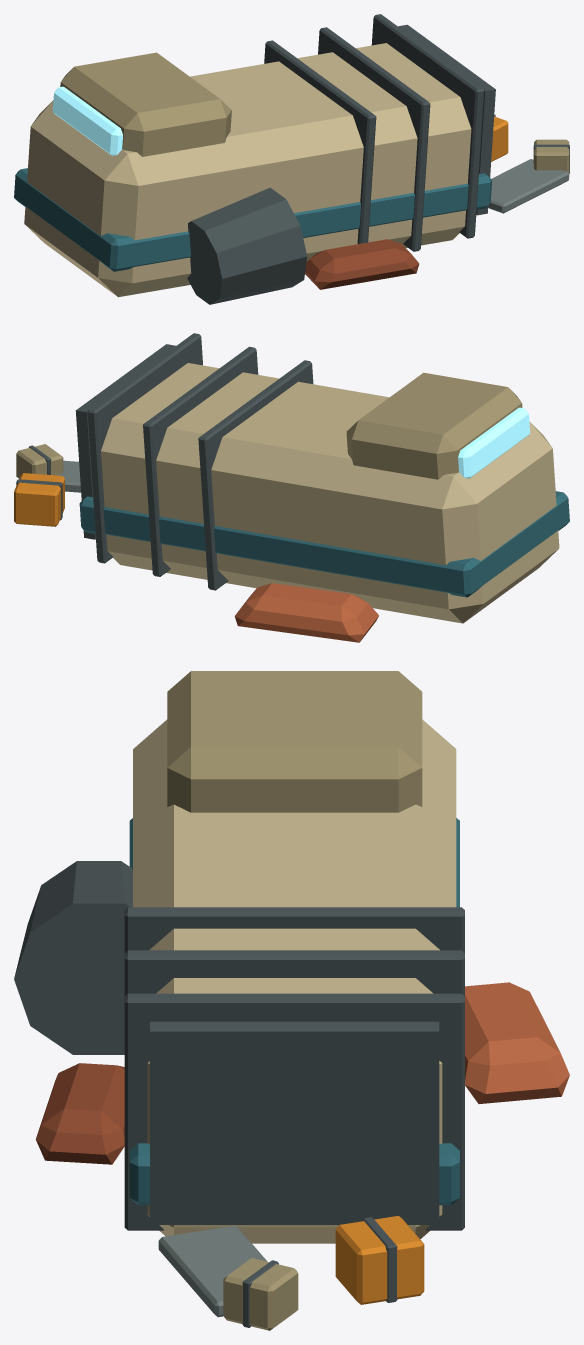
The model's file is ab_freighter_hull.glb.
The picture shows the model from 3 angles, top to bottom: view 1: azimuth 30°, elevation 25°; view 2: azimuth 150°, elevation 25°; view 3: azimuth 270°, elevation 25°; orthographic projection. The views are drawn at different scales.
Parts seen in each view (by area): view 1: ab_freighter_hull; view 2: ab_freighter_hull; view 3: ab_freighter_hull.
Boxes of the visible parts, left/top/right/bottom form: ab_freighter_hull: left=14, top=14, right=569, bottom=304; ab_freighter_hull: left=14, top=333, right=569, bottom=642; ab_freighter_hull: left=14, top=671, right=569, bottom=1330.
Size of the model in its own units: 5.55 by 2.11 by 3.27.
